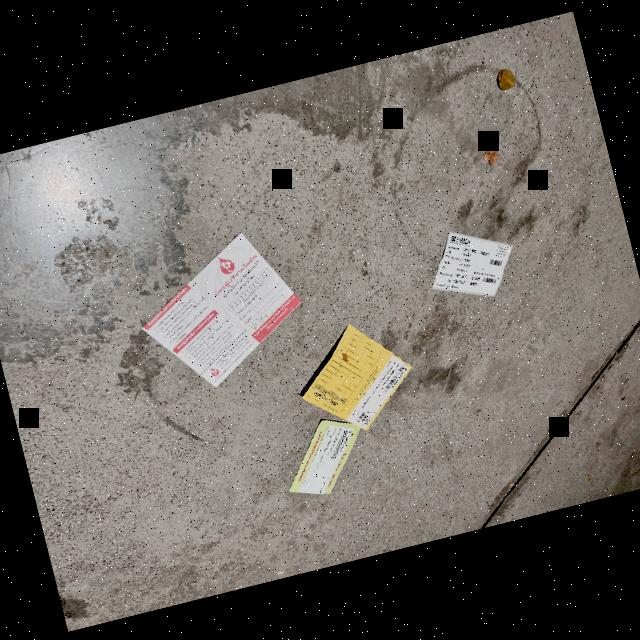scrap_paper: (134, 222, 316, 400), (282, 309, 426, 442), (416, 204, 528, 314), (274, 408, 372, 504)
